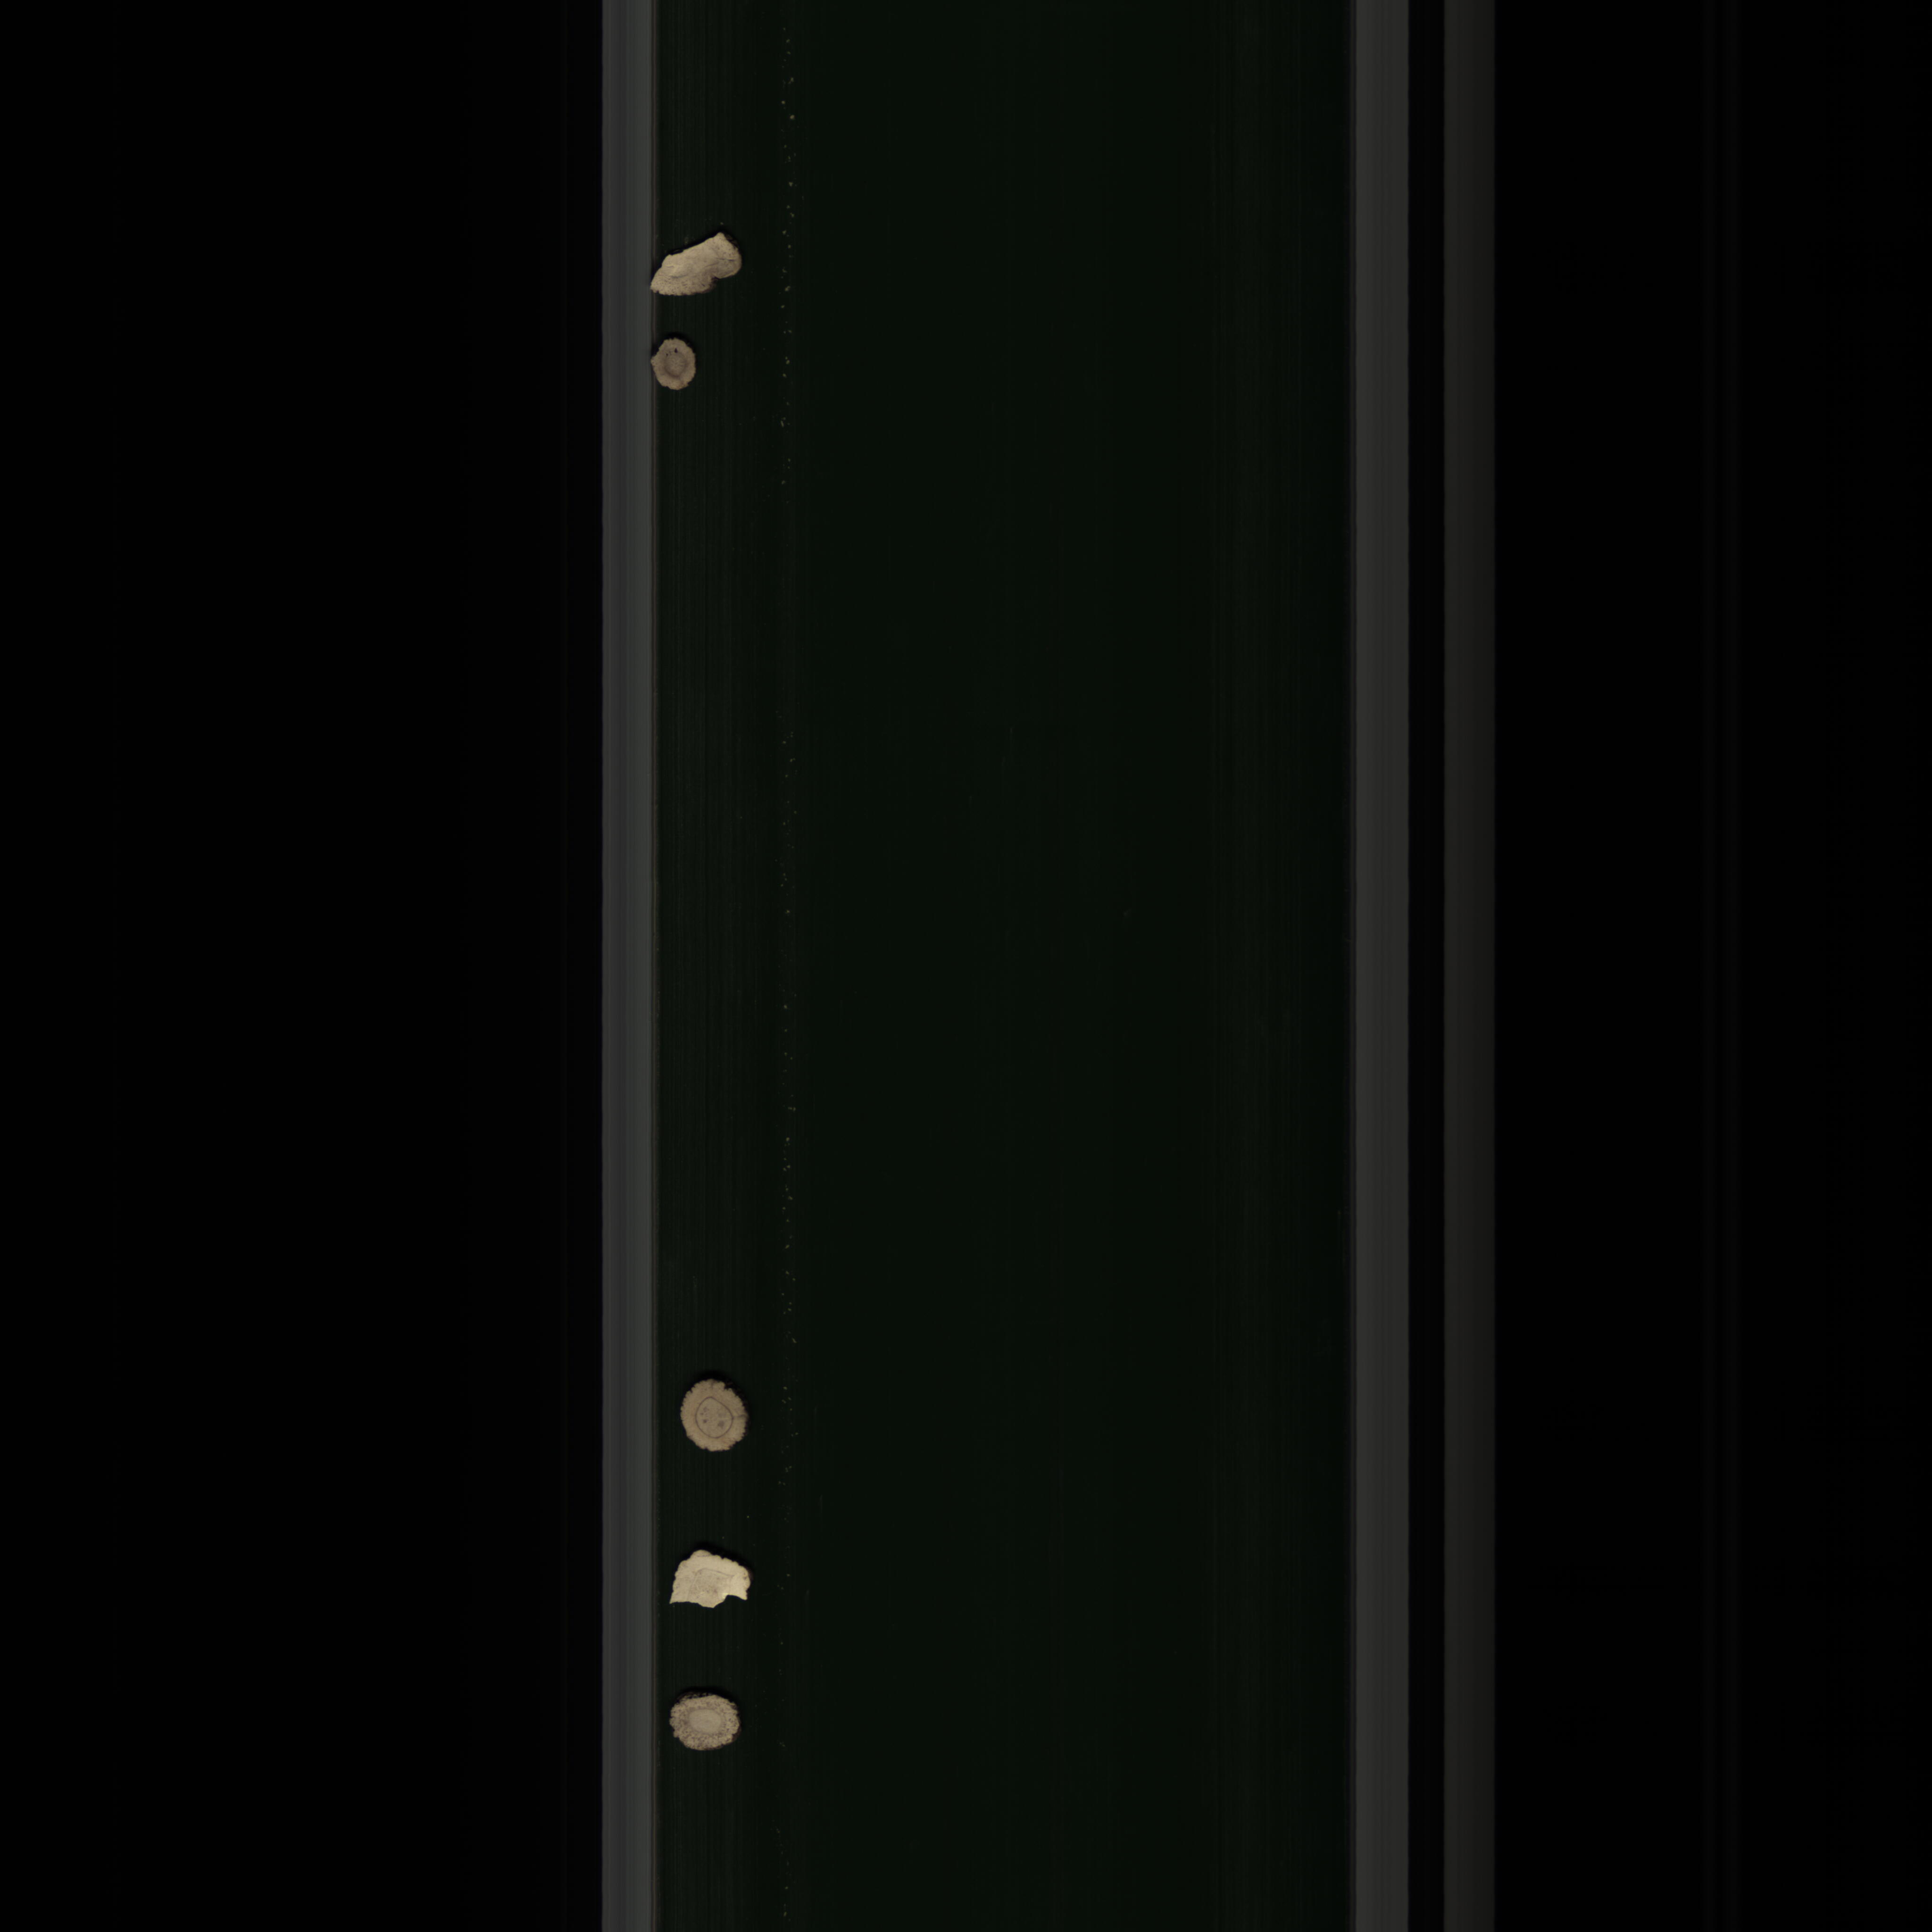debris: (640, 221, 747, 303), (663, 1546, 755, 1612)
moldy: (646, 329, 702, 400)
